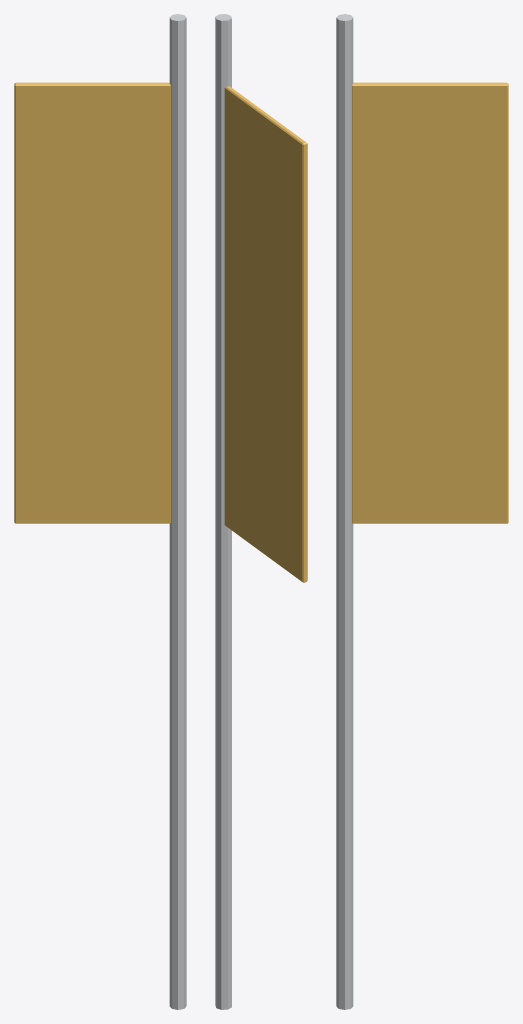
Rendered from festival_flag.glb.
3 views of the same model, side by side, from view 1: azimuth 90°, elevation 25°; view 2: azimuth 210°, elevation 25°; view 3: azimuth 270°, elevation 25° (orthographic).
Visible parts, largest first — view 1: festival_flag; view 2: festival_flag; view 3: festival_flag.
Part boxes in pixels (x1=…): festival_flag: x1=14, y1=14, x2=186, y2=1009; festival_flag: x1=215, y1=14, x2=307, y2=1009; festival_flag: x1=336, y1=14, x2=508, y2=1009.
Size of the model in its own units: 0.14 by 9 by 1.42.
